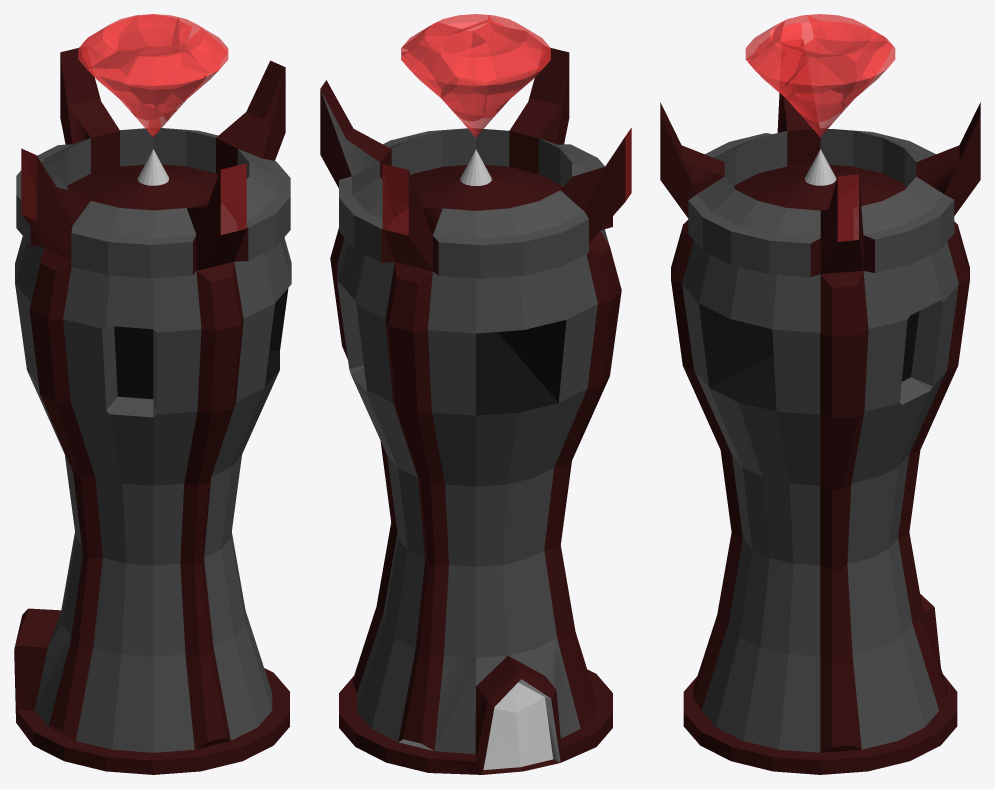
The model's file is BrokenTower 1.fbx.
3 views of the same model, side by side, from view 1: azimuth 30°, elevation 25°; view 2: azimuth 150°, elevation 25°; view 3: azimuth 270°, elevation 25° (orthographic).
Visible parts, largest first — view 1: Cylinder001_frag_036, Cylinder001_frag_008, Cylinder001_frag_002, Cylinder001_frag_021, Cylinder001_frag_023, Cylinder001_frag_033, Cylinder001_frag_022, Cylinder001_frag_039, Cylinder001_frag_037, Cylinder001_frag_032, Cylinder001_frag_035, Cylinder001_frag_017 (+30 smaller); view 2: Cylinder001_frag_018, Cylinder001_frag_032, Cylinder001_frag_028, Cylinder001_frag_005, Cylinder001_frag_029, Cylinder001_frag_011, Cylinder001_frag_036, Cylinder001_frag_037, Cylinder001_frag_039, Cylinder001_frag_008, Cylinder001_frag_013, Cylinder001_frag_020 (+19 smaller); view 3: Cylinder001_frag_014, Cylinder001_frag_039, Cylinder001_frag_023, Cylinder001_frag_020, Cylinder001_frag_016, Cylinder001_frag_017, Cylinder001_frag_005, Cylinder001_frag_024, Cylinder001_frag_026, Cylinder001_frag_032, Cylinder001_frag_018, Cylinder001_frag_009 (+27 smaller).
Boxes of the visible parts, bbox=[...] form: Cylinder001_frag_036: bbox=[16, 148, 169, 355]; Cylinder001_frag_008: bbox=[15, 258, 234, 406]; Cylinder001_frag_002: bbox=[81, 504, 188, 673]; Cylinder001_frag_021: bbox=[61, 387, 206, 515]; Cylinder001_frag_023: bbox=[144, 574, 262, 731]; Cylinder001_frag_033: bbox=[133, 344, 257, 497]; Cylinder001_frag_022: bbox=[45, 692, 180, 774]; Cylinder001_frag_039: bbox=[168, 79, 285, 273]; Cylinder001_frag_037: bbox=[14, 608, 91, 751]; Cylinder001_frag_032: bbox=[15, 128, 185, 273]; Cylinder001_frag_035: bbox=[136, 163, 246, 271]; Cylinder001_frag_017: bbox=[220, 259, 291, 402]; Cylinder001_frag_018: bbox=[385, 539, 521, 769]; Cylinder001_frag_032: bbox=[341, 169, 556, 352]; Cylinder001_frag_028: bbox=[387, 368, 515, 552]; Cylinder001_frag_005: bbox=[337, 261, 475, 427]; Cylinder001_frag_029: bbox=[477, 369, 607, 544]; Cylinder001_frag_011: bbox=[382, 164, 579, 268]; Cylinder001_frag_036: bbox=[554, 128, 631, 335]; Cylinder001_frag_037: bbox=[495, 653, 604, 767]; Cylinder001_frag_039: bbox=[320, 106, 531, 265]; Cylinder001_frag_008: bbox=[476, 160, 616, 379]; Cylinder001_frag_013: bbox=[483, 565, 582, 659]; Cylinder001_frag_020: bbox=[339, 588, 394, 762]; Cylinder001_frag_014: bbox=[732, 463, 893, 628]; Cylinder001_frag_039: bbox=[690, 184, 919, 304]; Cylinder001_frag_023: bbox=[704, 589, 838, 726]; Cylinder001_frag_020: bbox=[826, 634, 957, 773]; Cylinder001_frag_016: bbox=[771, 303, 902, 429]; Cylinder001_frag_017: bbox=[671, 238, 775, 409]; Cylinder001_frag_005: bbox=[886, 240, 969, 411]; Cylinder001_frag_024: bbox=[718, 402, 870, 486]; Cylinder001_frag_026: bbox=[728, 277, 869, 351]; Cylinder001_frag_032: bbox=[765, 163, 976, 291]; Cylinder001_frag_018: bbox=[862, 519, 957, 701]; Cylinder001_frag_009: bbox=[678, 173, 794, 270].
Bounding box in the file's own units: 58.5 × 135 × 57.74.
